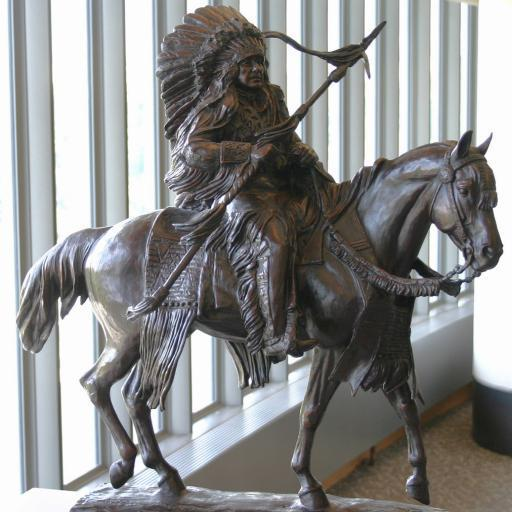horse: (12, 127, 507, 496)
